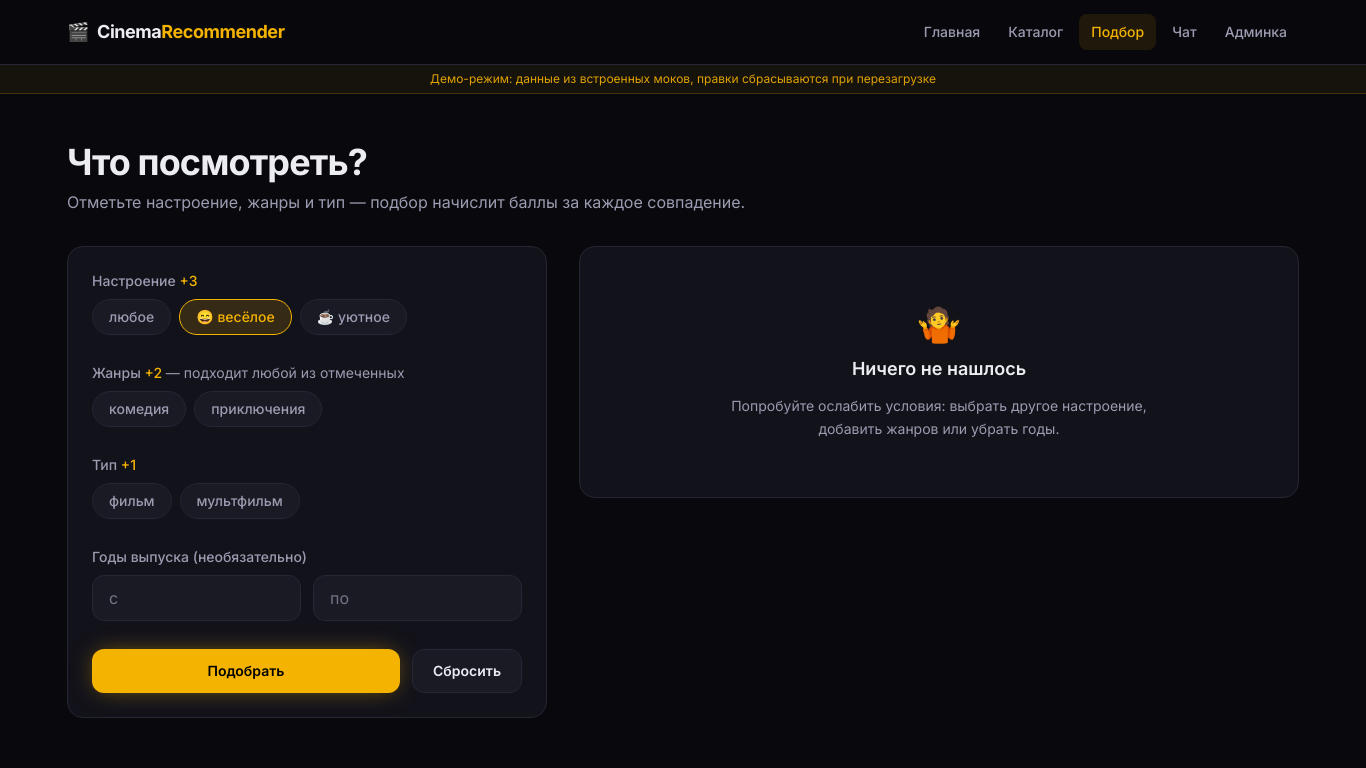
Страница подбора › «Сбросить» очищает форму и адрес
The image size is (1366, 768).
Click the button "Сбросить": (467, 671) [412,649,522,693]
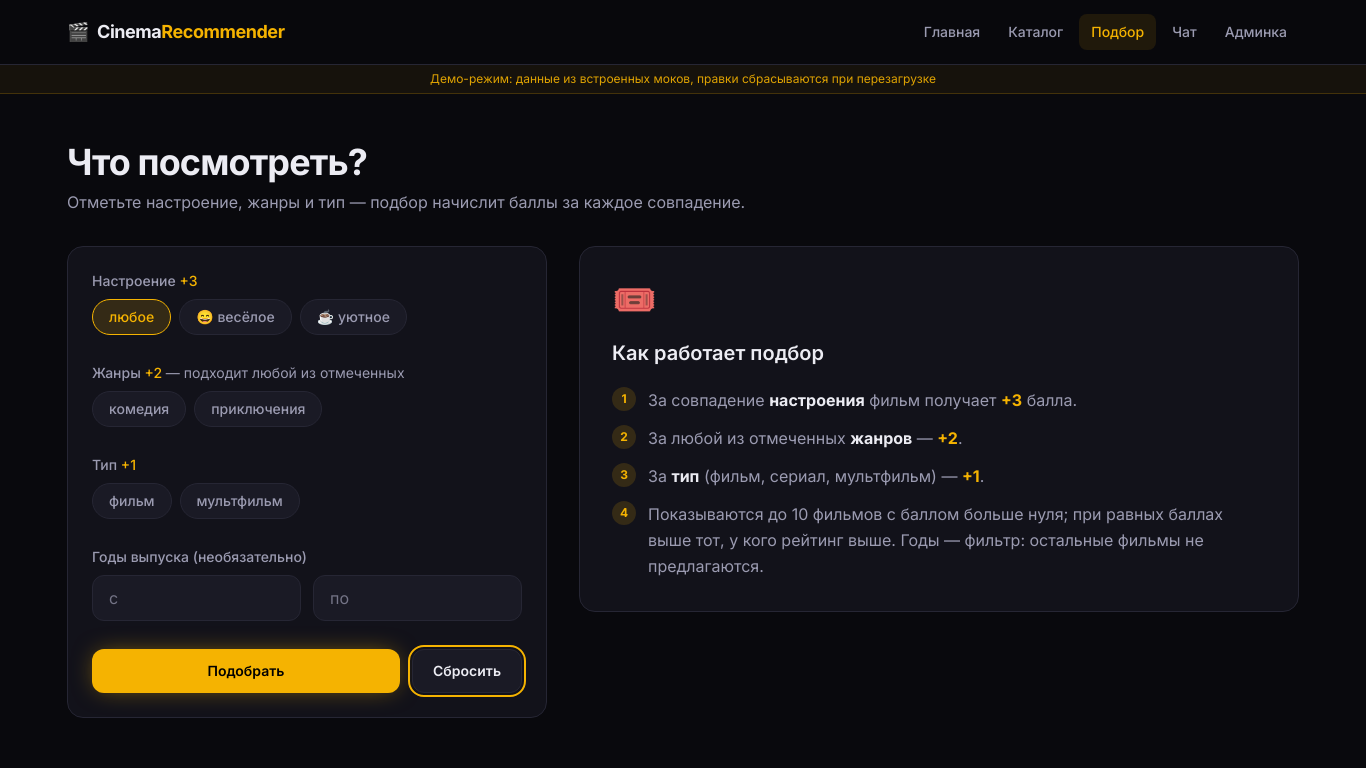
Check: the heading "Как работает подбор" is shown, box [612,341,824,365]
